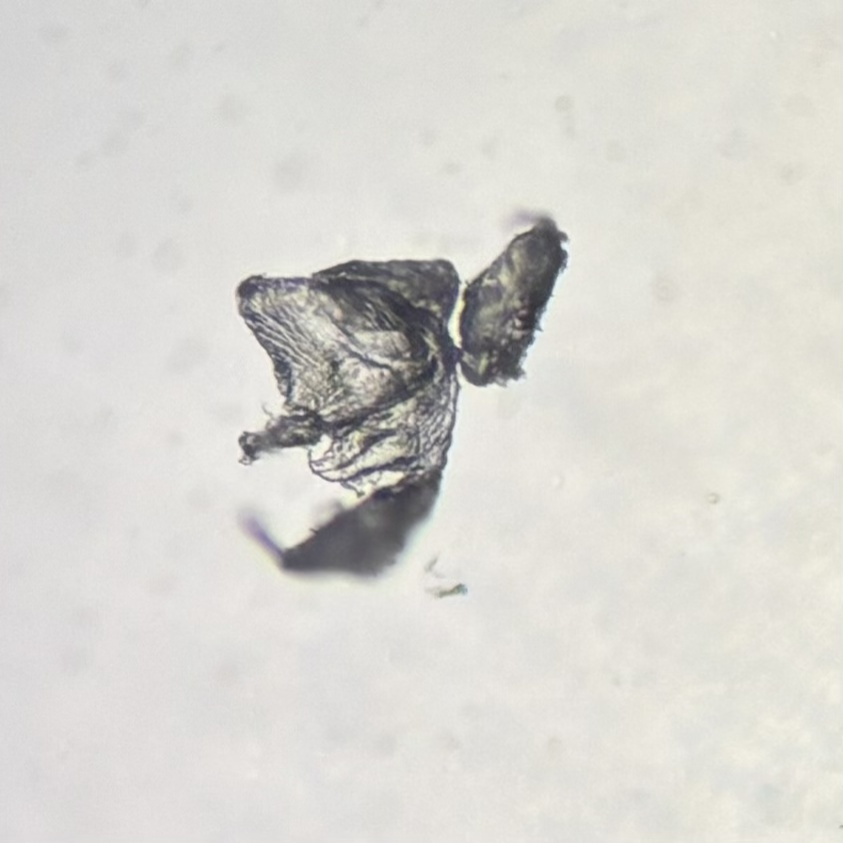microplastic: (233, 218, 569, 598)
